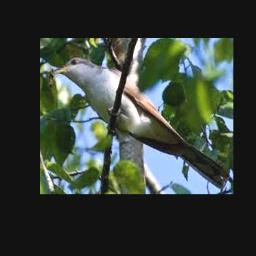Cuckoo: (54, 56, 230, 189)
